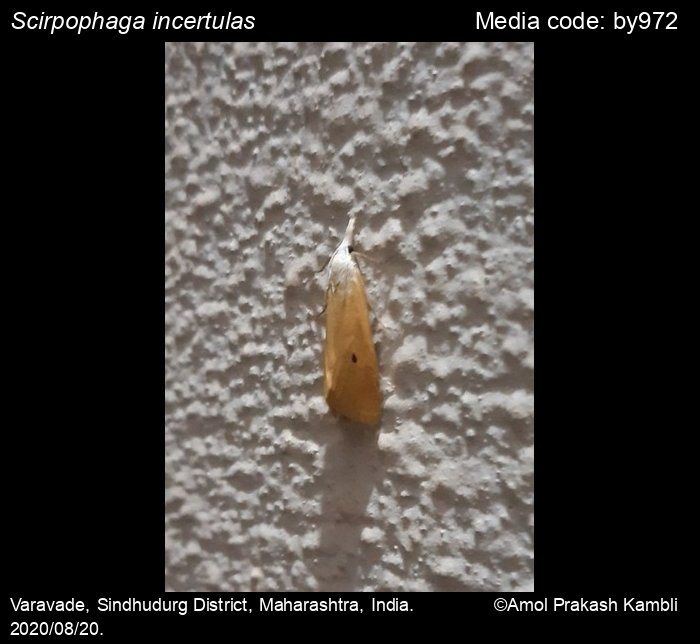Crambidae: (306, 219, 395, 426)
